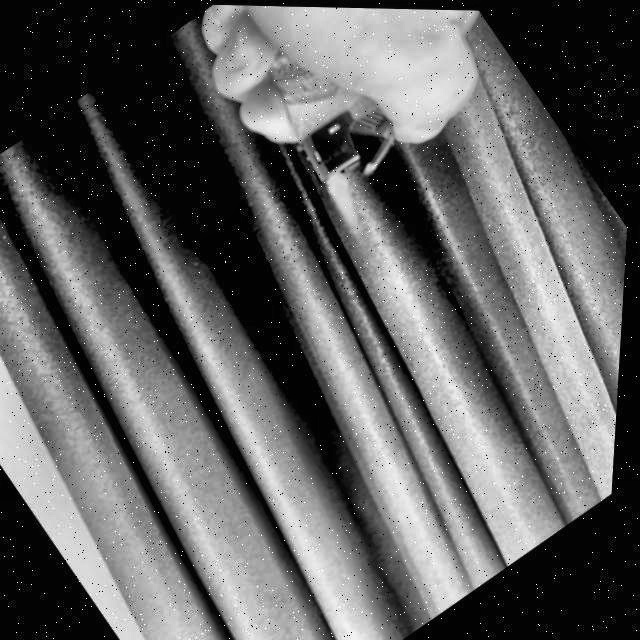Fire: (317, 165, 386, 238)
